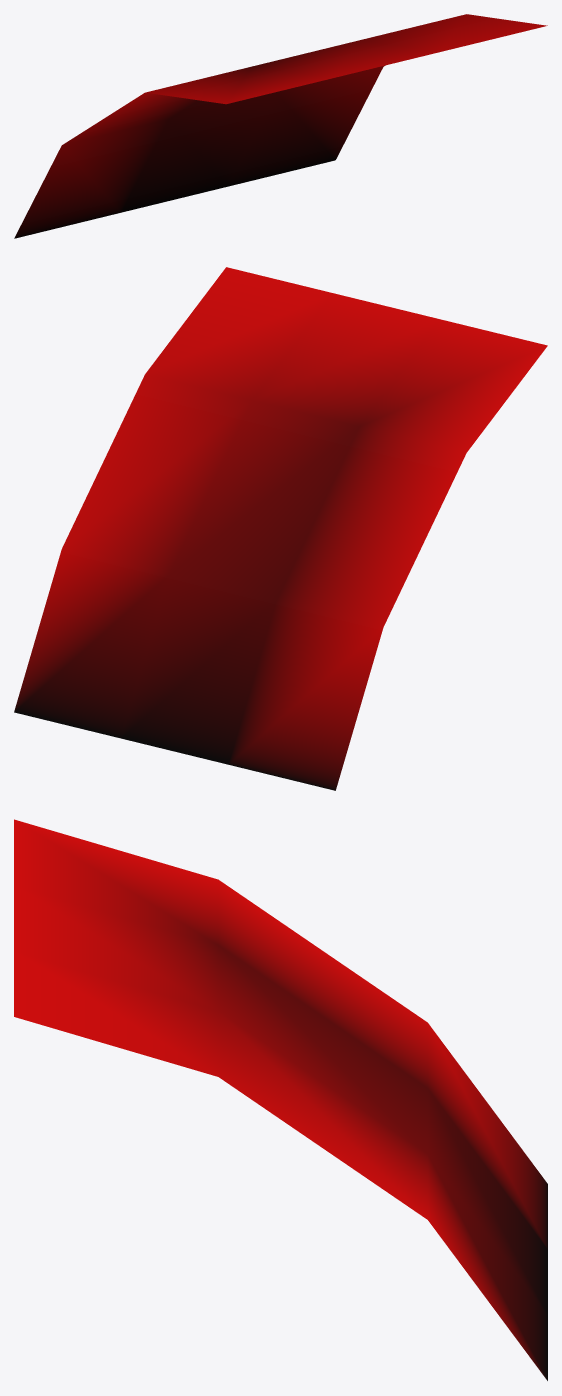
File: grass_plane_7.fbx
The picture shows the model from 3 angles, top to bottom: view 1: azimuth 30°, elevation 25°; view 2: azimuth 150°, elevation 25°; view 3: azimuth 270°, elevation 25°; orthographic projection. The views are drawn at different scales.
Visible parts, largest first — view 1: grass_plane_7; view 2: grass_plane_7; view 3: grass_plane_7.
Part boxes in pixels (box(x1,y1,x2,y2)): grass_plane_7: box(14, 14, 547, 238); grass_plane_7: box(14, 267, 547, 790); grass_plane_7: box(14, 819, 547, 1380).
Bounding box in the file's own units: 0.8577 × 0.7386 × 0.9802.
